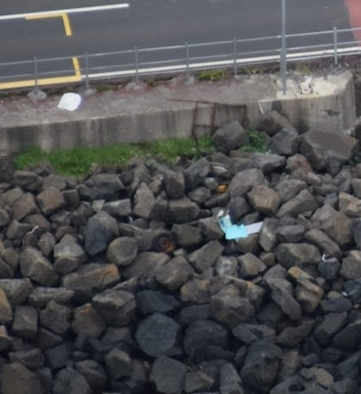white_in_green: (203, 191, 285, 269), (37, 74, 101, 130), (136, 214, 192, 266)
